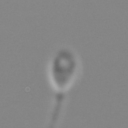normal: (42, 92, 77, 128)
